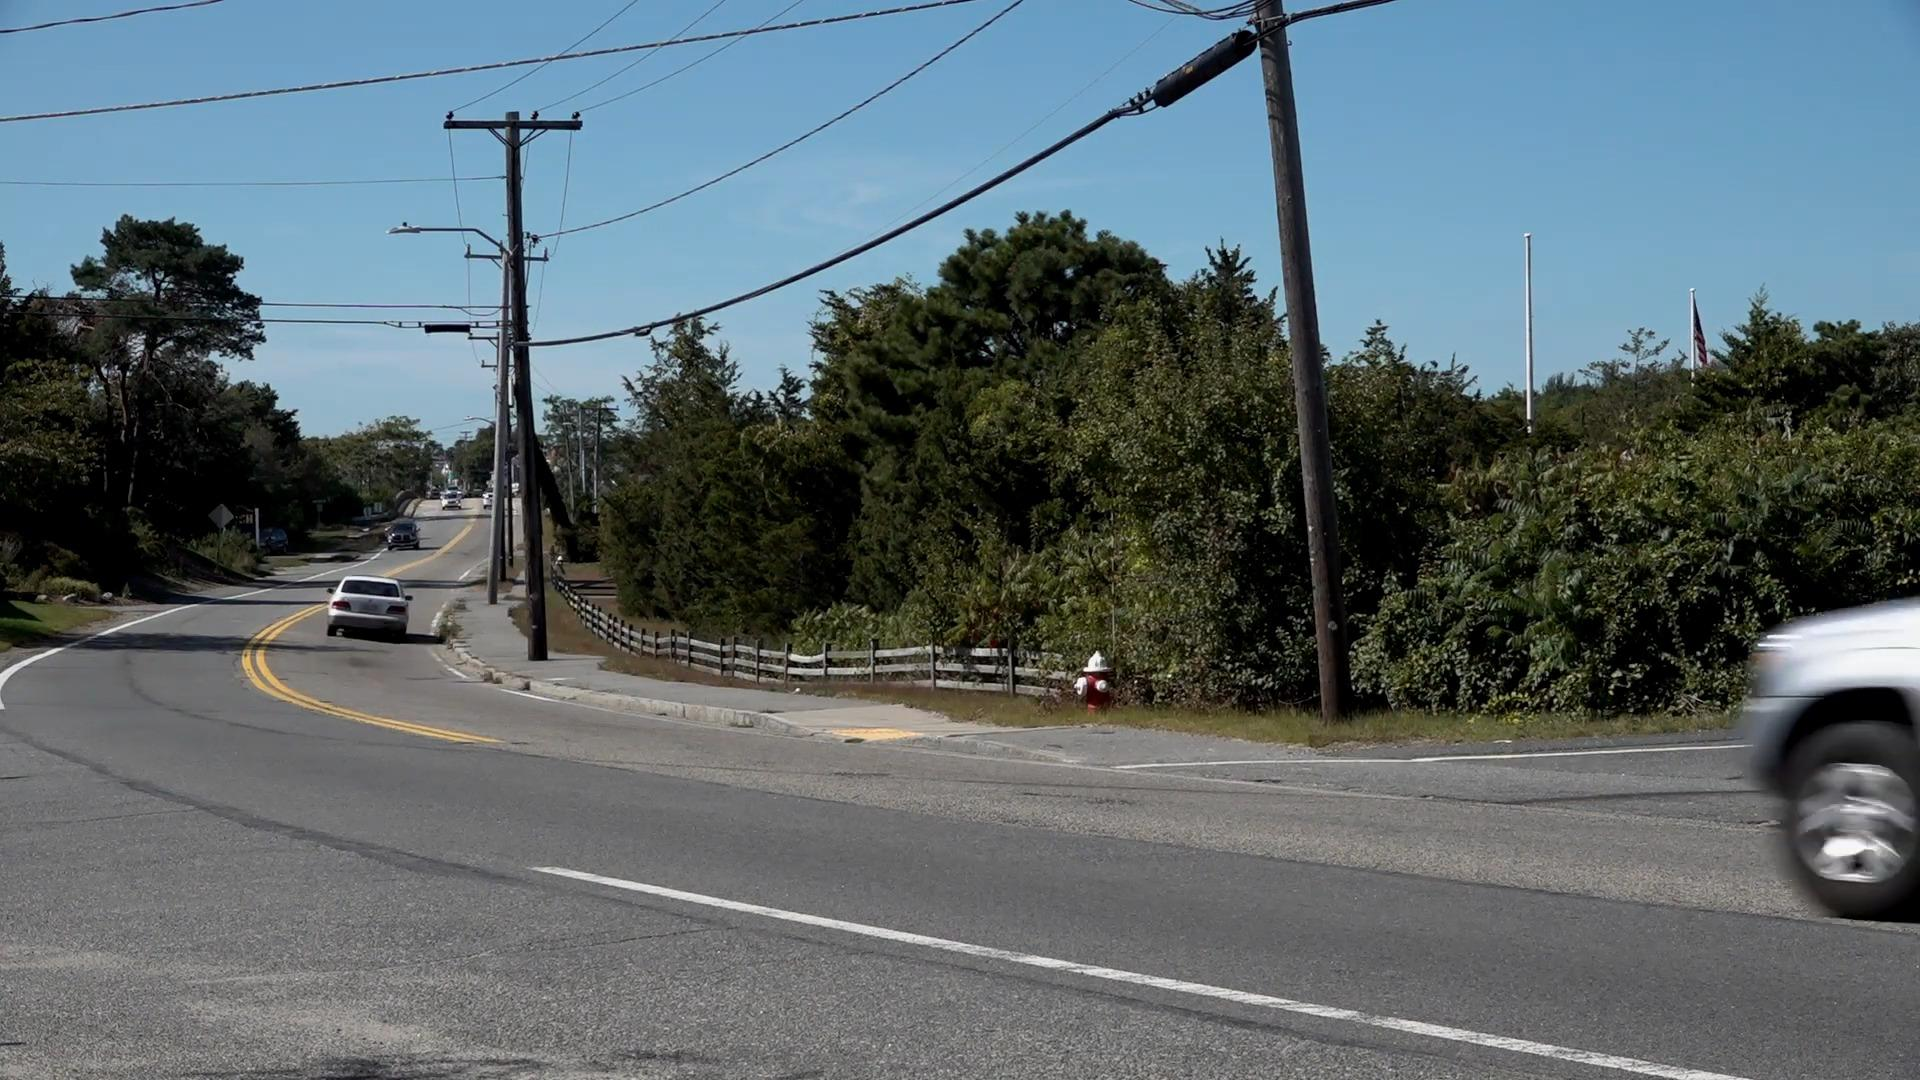sedans: (328, 573, 418, 645)
